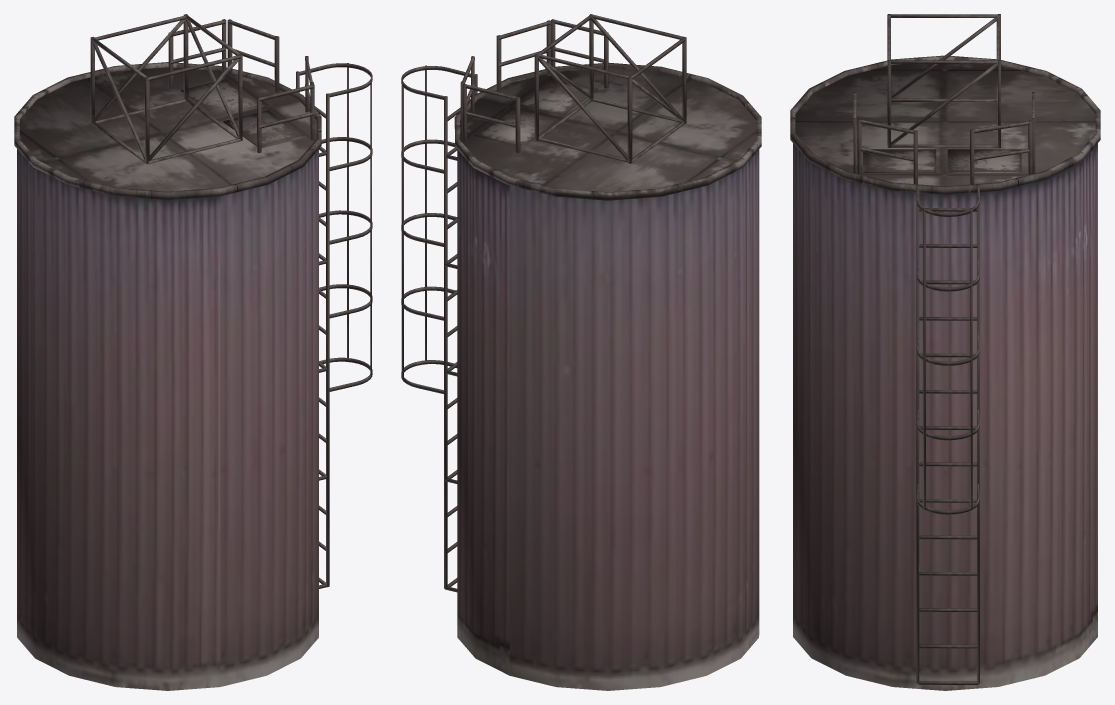
The model's file is Iron_Tank_3.glb.
The picture shows the model from 3 angles, left to right: view 1: azimuth 30°, elevation 25°; view 2: azimuth 150°, elevation 25°; view 3: azimuth 270°, elevation 25°; orthographic projection.
Parts seen in each view (by area): view 1: Iron_Tank_3; view 2: Iron_Tank_3; view 3: Iron_Tank_3.
Boxes of the visible parts, x1,y1,x2,y2 form: Iron_Tank_3: (14,14,372,690); Iron_Tank_3: (401,14,761,690); Iron_Tank_3: (790,14,1100,690).
Size of the model in its own units: 7.07 by 11.65 by 5.58.
Materials: 1 (1 with a texture image).
